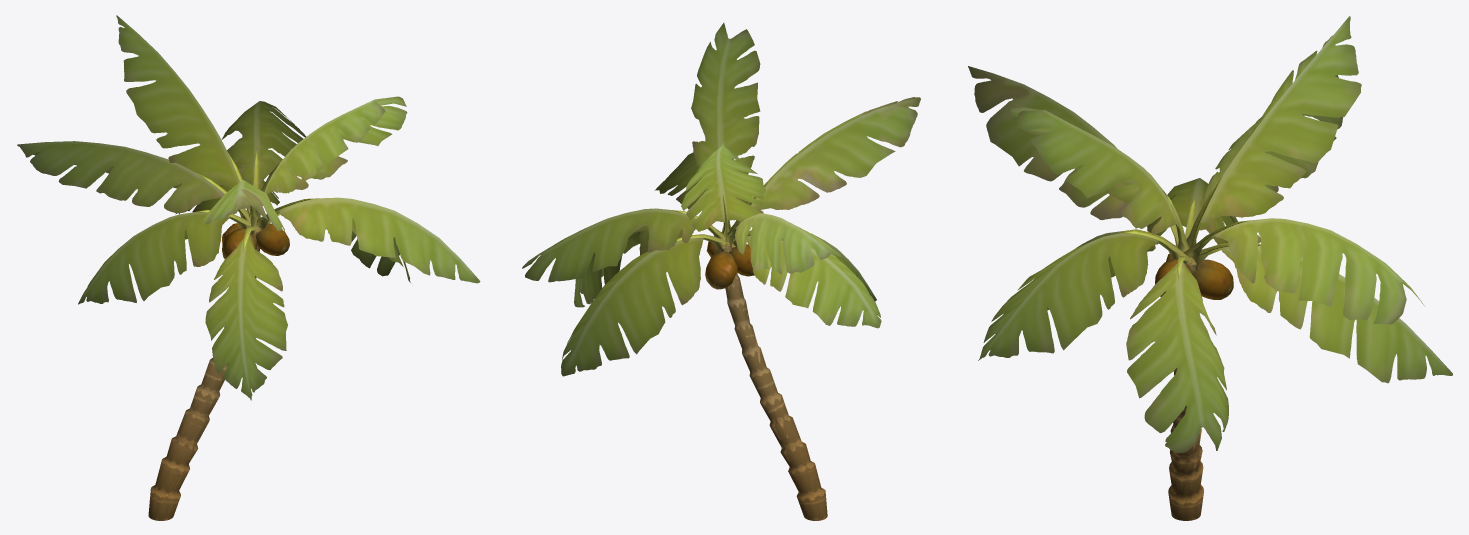
Rendered from coconut palm 03.obj.
The picture shows the model from 3 angles, left to right: view 1: azimuth 30°, elevation 25°; view 2: azimuth 150°, elevation 25°; view 3: azimuth 270°, elevation 25°; orthographic projection. The views are drawn at different scales.
Visible parts, largest first — view 1: tree; view 2: tree; view 3: tree.
Boxes of the visible parts, x1,y1,x2,y2 form: tree: (17, 15, 480, 520); tree: (522, 22, 920, 520); tree: (968, 16, 1452, 520).
Bounding box in the file's own units: 370 × 464 × 407.
